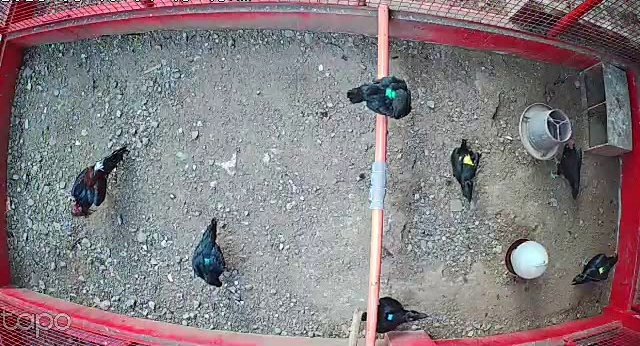Chicken: (189, 211, 235, 288), (344, 72, 413, 120), (352, 296, 432, 335), (448, 136, 482, 205), (550, 139, 586, 202), (566, 249, 620, 288)
Rooster: (67, 143, 135, 220)
Saddle_Color_Blue: (386, 312, 393, 320)
Saddle_Color_Yellow: (460, 156, 475, 166)
Saddle_Color_YellowGreen: (598, 265, 607, 274)
